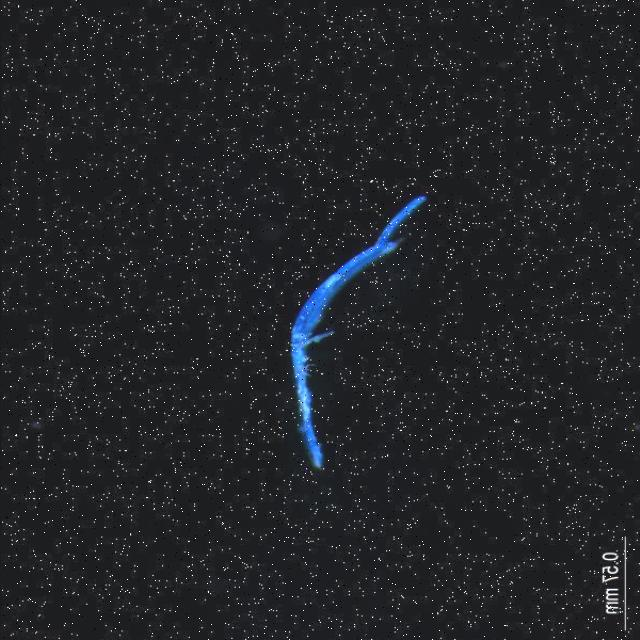Fibre: (279, 190, 436, 472)
